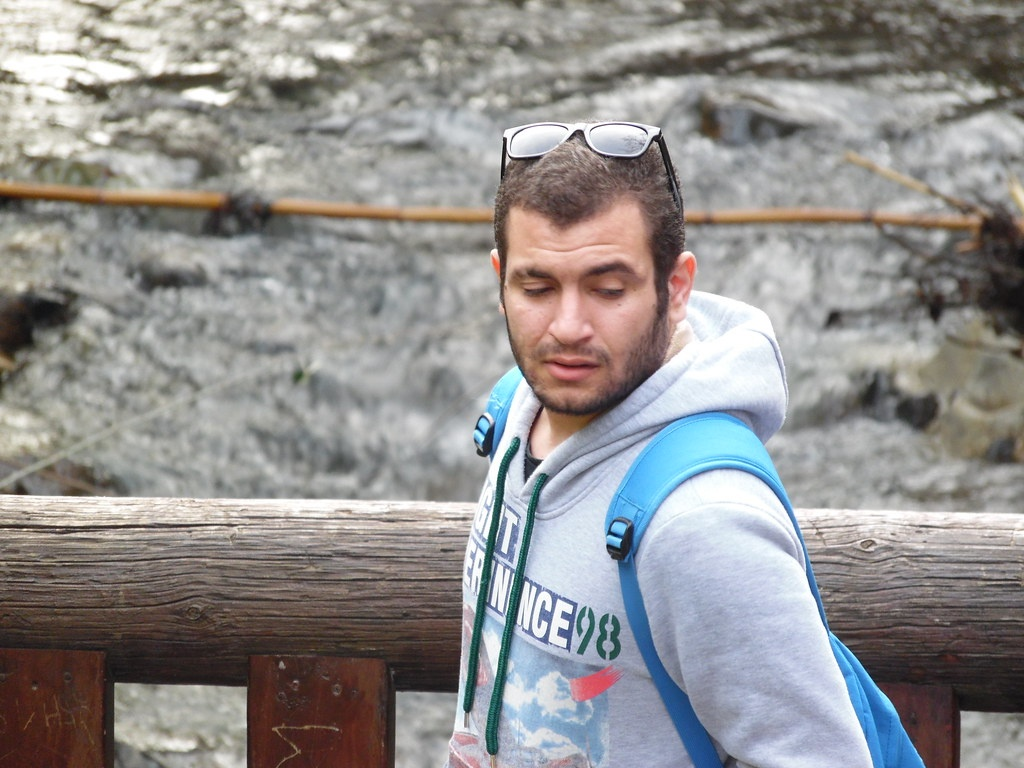without_mask: (499, 199, 678, 410)
